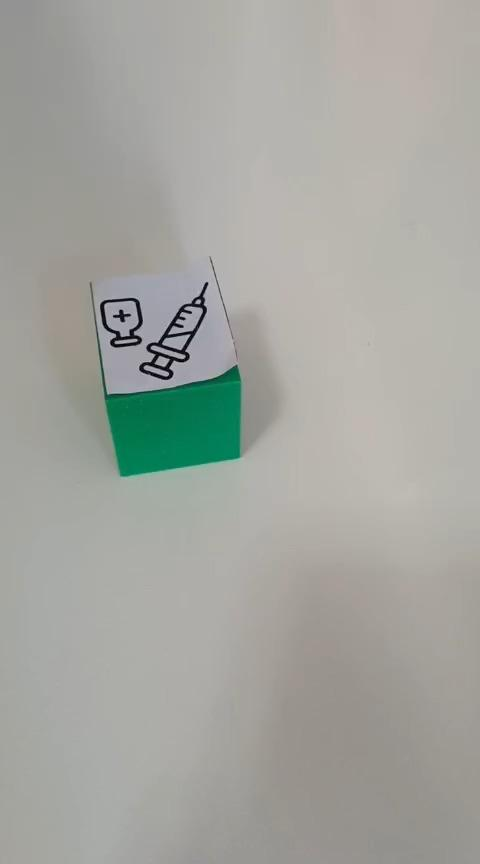antiseptic cream: (87, 254, 243, 477)
